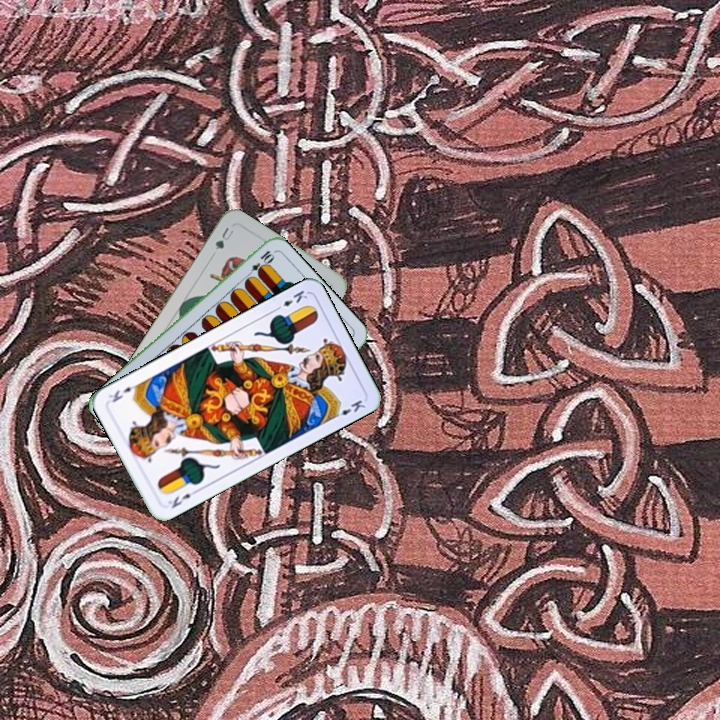E10: (242, 246, 276, 281)
EK: (271, 286, 310, 313), (164, 485, 201, 511)
GU: (211, 223, 236, 253)
